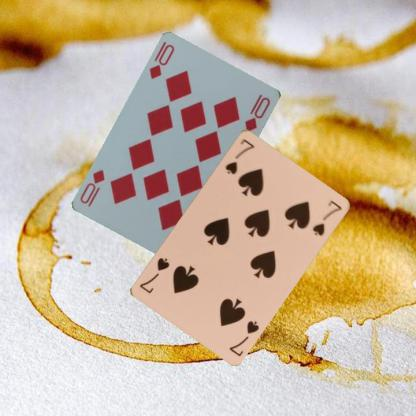10d: (146, 42, 176, 81)
7s: (226, 317, 260, 358), (222, 136, 256, 176)
